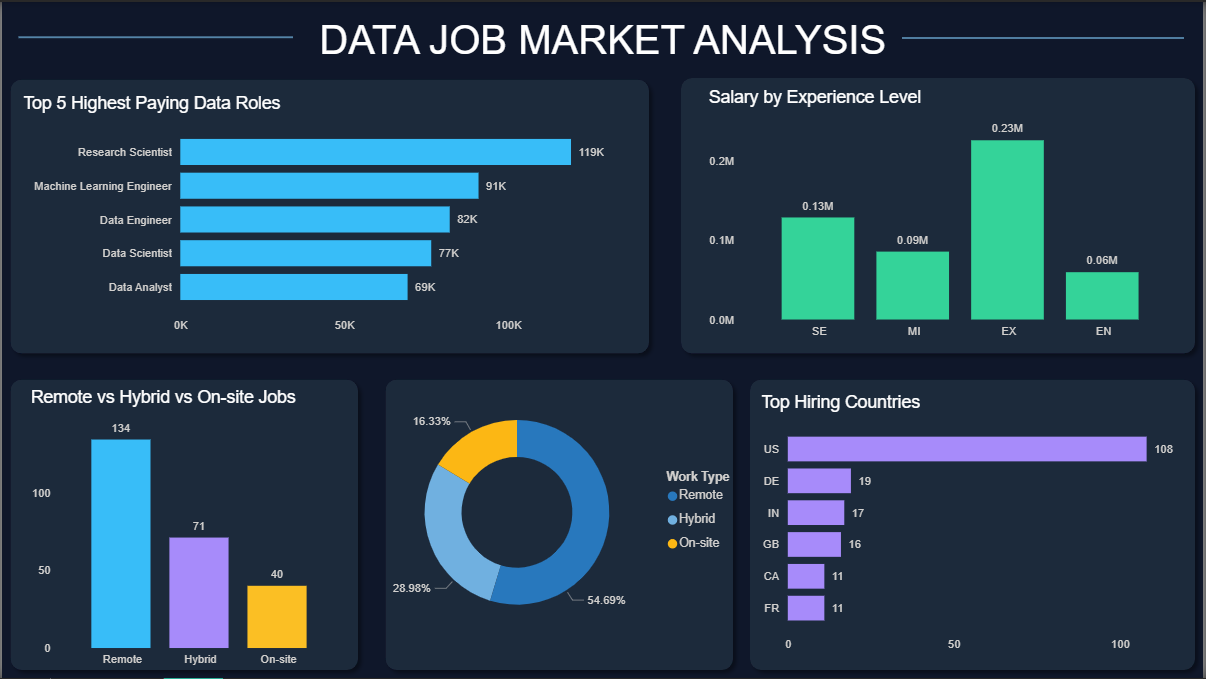

The dashboard page shown, as its layout file describes it:
{"tool":"powerbi","page":{"name":"Page 1","canvas":[1280,720],"ordinal":0},"visuals":[{"type":"shape","box":[0,73.5,698.2,309.9],"z":0},{"type":"clusteredBarChart","title":"Top 5 Highest Paying Data Roles","fields":{"Category":["clean_jobs.job_title"],"Y":["Avg(clean_jobs.salary_in_usd)"]},"box":[17.6,97.5,655,262],"z":1000},{"type":"textbox","box":[0,11.2,1279.7,60.7],"z":2000},{"type":"shape","box":[17.6,3.2,292.4,68.7],"z":3000},{"type":"shape","box":[958.6,3.2,300.4,70.3],"z":4000},{"type":"shape","box":[714.2,71.9,565.6,311.5],"z":5000},{"type":"clusteredColumnChart","title":"Salary by Experience Level","fields":{"Category":["clean_jobs.experience_level"],"Y":["Avg(clean_jobs.salary_in_usd)"]},"box":[747.7,91.1,511.3,274.8],"z":6000},{"type":"shape","box":[399.4,393,388.2,327.5],"z":7000},{"type":"donutChart","fields":{"Category":["clean_jobs.Work Type"],"Y":["CountNonNull(clean_jobs.Work Type)"]},"box":[383.4,365.9,415.4,354.7],"z":8000},{"type":"shape","box":[0,393,388.2,327.5],"z":9000},{"type":"clusteredColumnChart","title":"Remote vs Hybrid vs On-site Jobs","fields":{"Category":["clean_jobs.Work Type"],"Y":["CountNonNull(clean_jobs.Work Type)"]},"box":[25.6,410.6,340.3,305.2],"z":10000},{"type":"shape","box":[787.7,393,492.1,327.5],"z":11000},{"type":"clusteredBarChart","title":"Top Hiring Countries","fields":{"Category":["clean_jobs.company_location"],"Y":["CountNonNull(clean_jobs.company_location)"]},"box":[803.6,415.4,460.1,284.4],"z":12000}]}

Visuals, with their boxes in screenshot pixels (x1, y1, x2, y2), scaled from the page's 1280x720 canvas onto the 1206x679 screenshot:
shape: 0, 69, 658, 362
"Top 5 Highest Paying Data Roles" clusteredBarChart: 17, 92, 634, 339
textbox: 0, 11, 1205, 68
shape: 17, 3, 292, 68
shape: 903, 3, 1186, 69
shape: 673, 68, 1205, 362
"Salary by Experience Level" clusteredColumnChart: 704, 86, 1186, 345
shape: 376, 371, 742, 678
donutChart - clean_jobs.Work Type x CountNonNull(clean_jobs.Work Type): 361, 345, 753, 678
shape: 0, 371, 366, 678
"Remote vs Hybrid vs On-site Jobs" clusteredColumnChart: 24, 387, 345, 675
shape: 742, 371, 1205, 678
"Top Hiring Countries" clusteredBarChart: 757, 392, 1191, 660
